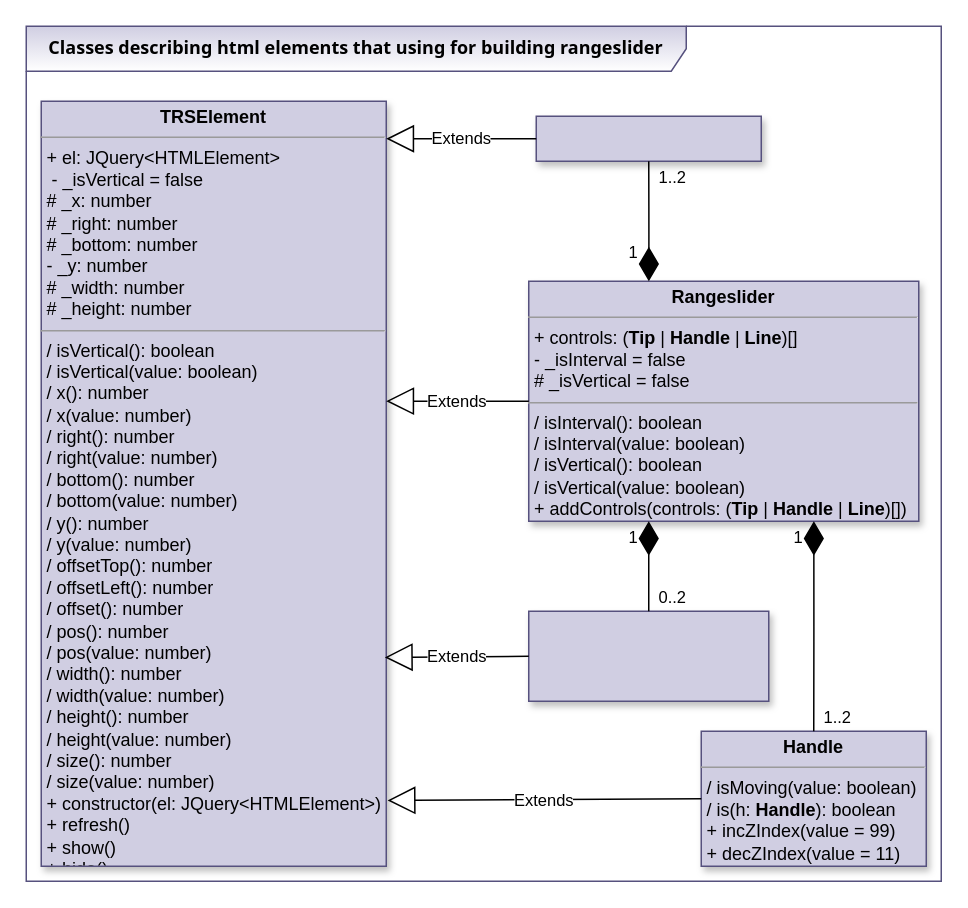
This 968x908 diagram has some shape labels left out. Each missing label, with the centre of its shape:
Line: point 649,140
Tip / text(value: string | number) / text(): string | number: point 649,658
